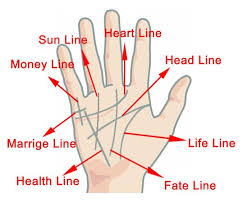palm: (77, 94, 158, 165)
